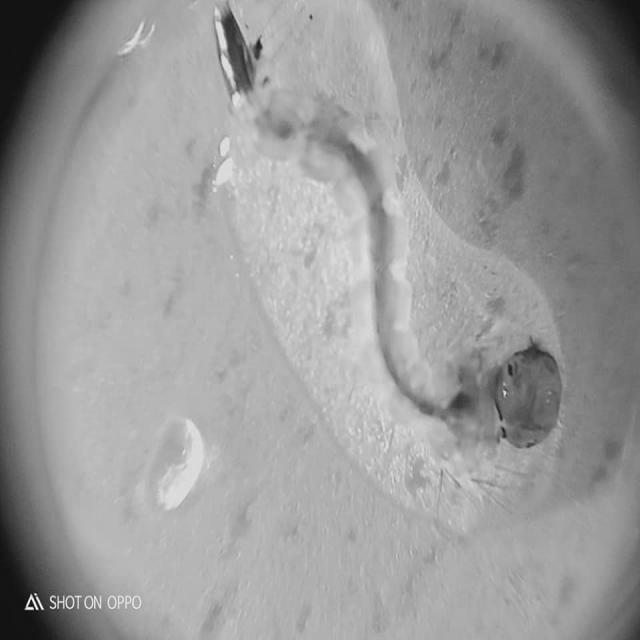larvas: (218, 12, 564, 450)
